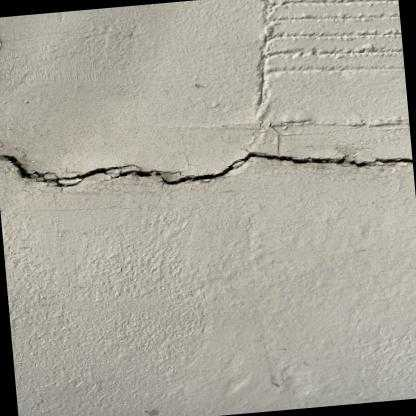crack: (0, 153, 413, 187)
